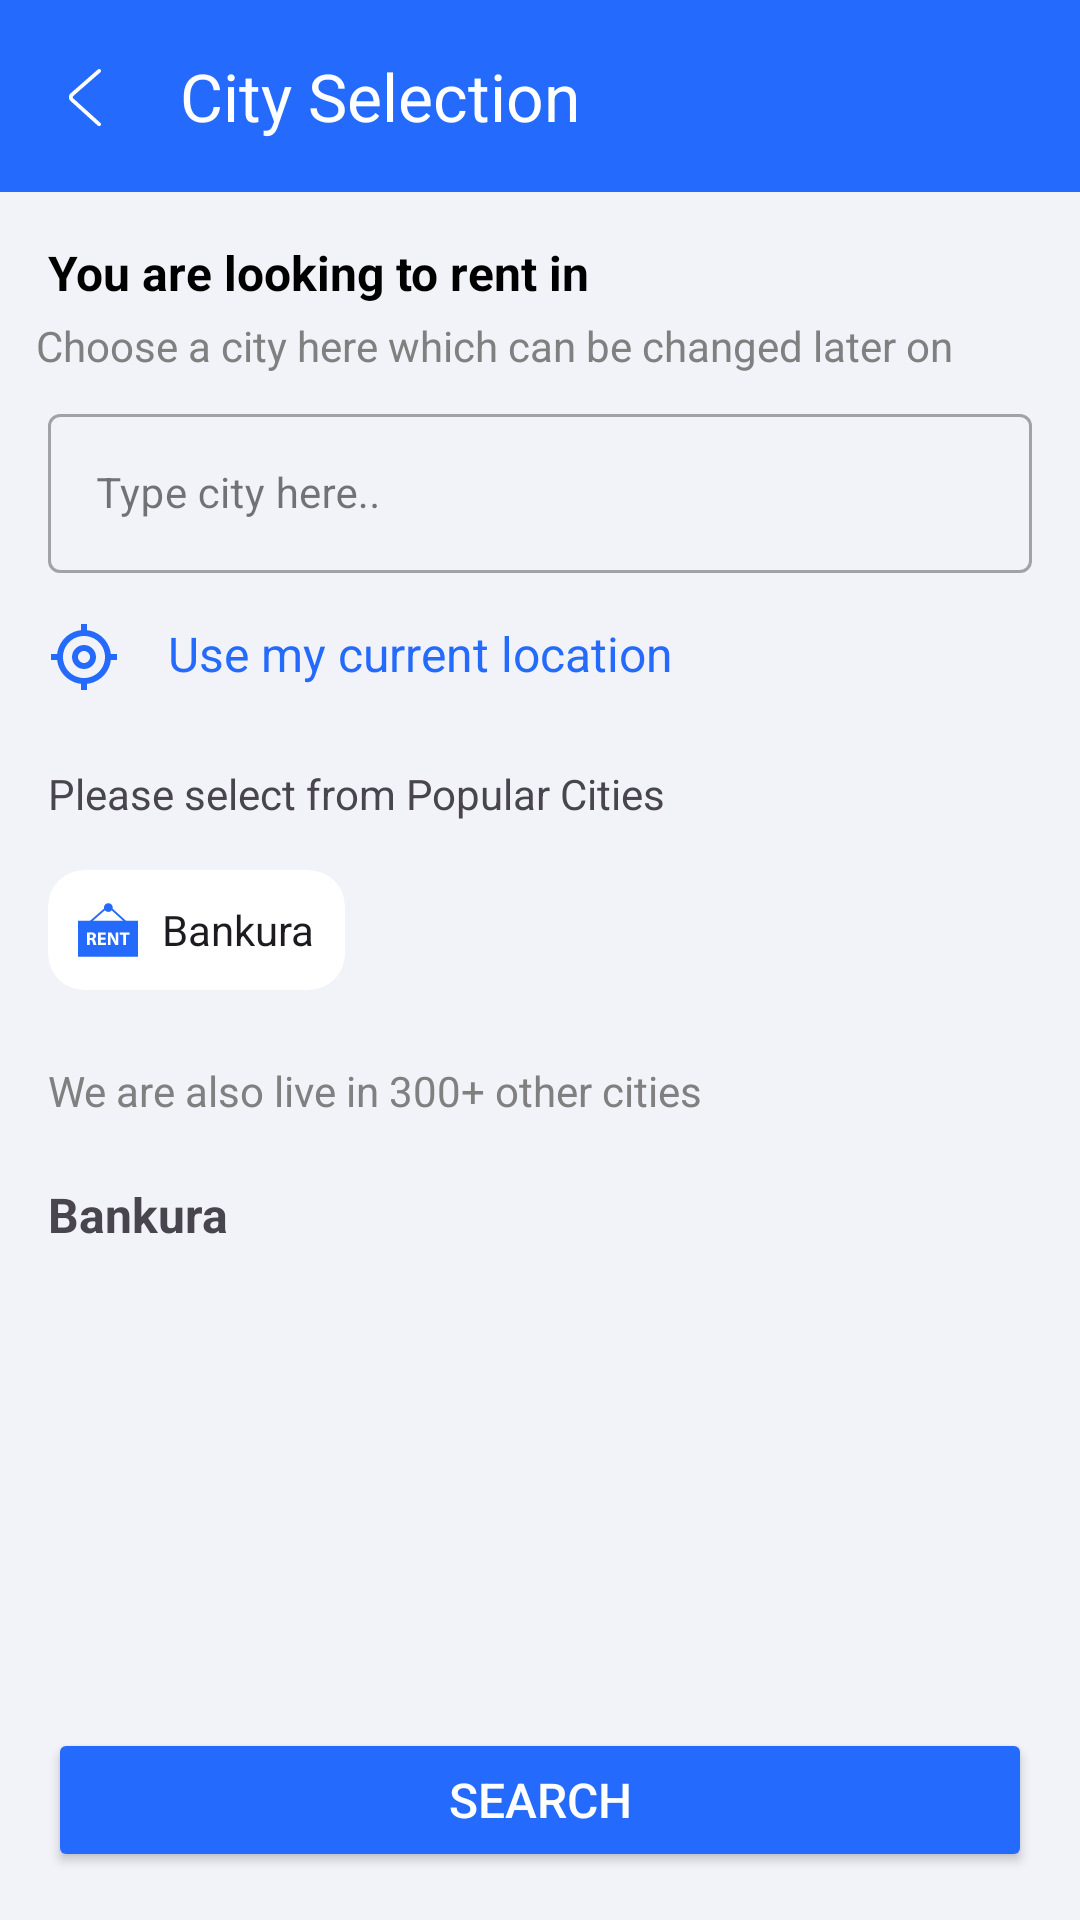

Named icons in this screenshot (1080x1920) and their centers, (x,y):
curr loc: (84,657)
